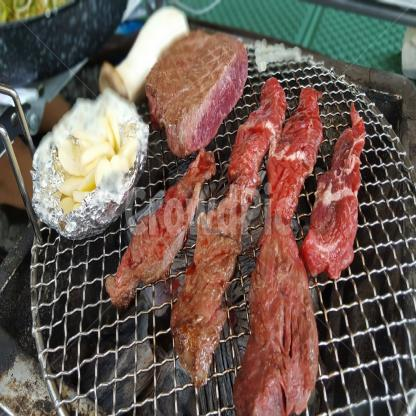Carne: (153, 22, 247, 160)
